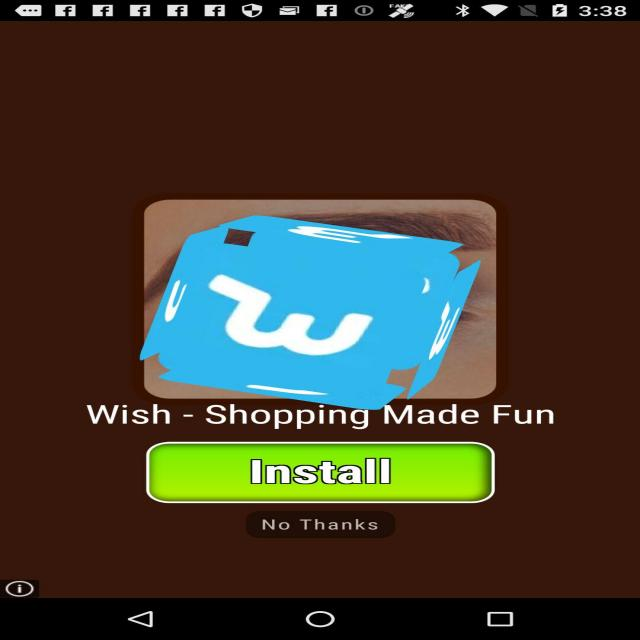button: (139, 440, 529, 493), (180, 513, 547, 548), (0, 546, 109, 596)
icon: (180, 226, 440, 344), (158, 443, 491, 497), (208, 515, 430, 547), (11, 575, 49, 602)
image: (90, 282, 438, 343), (130, 192, 517, 240)
text: (237, 511, 479, 552), (232, 448, 463, 489), (83, 406, 640, 413)
